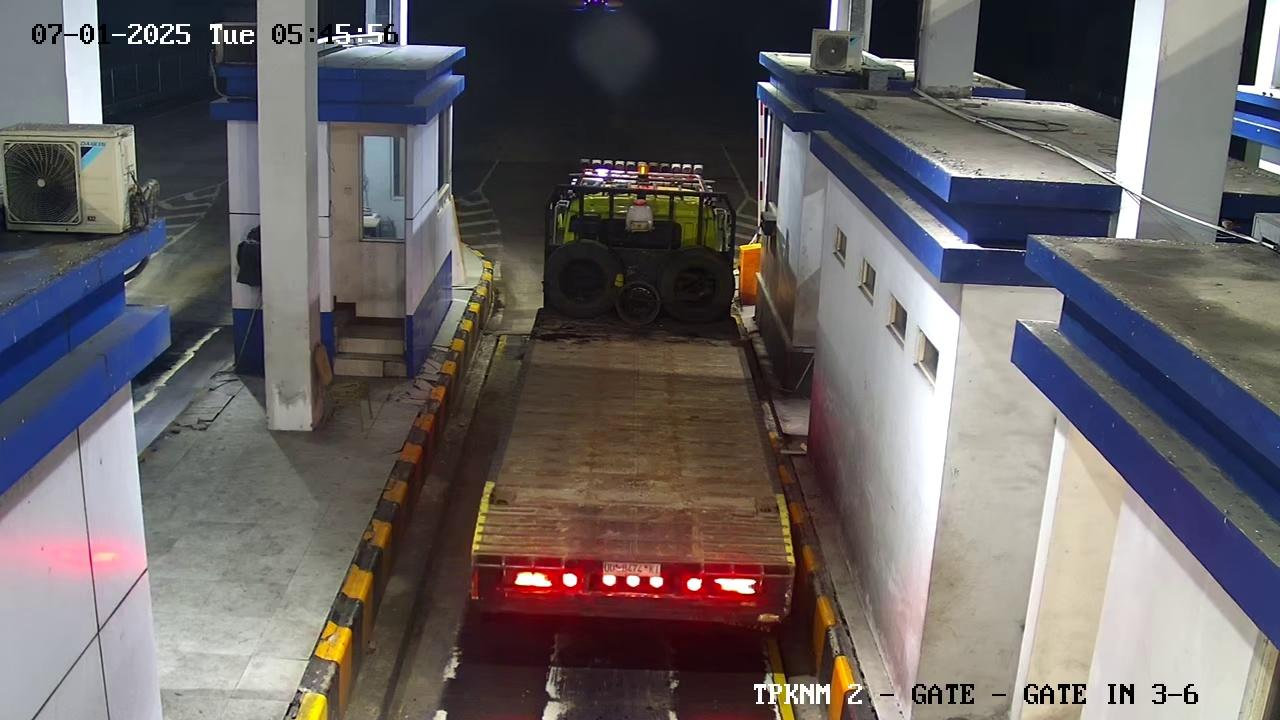plate_number: (586, 552, 669, 595)
